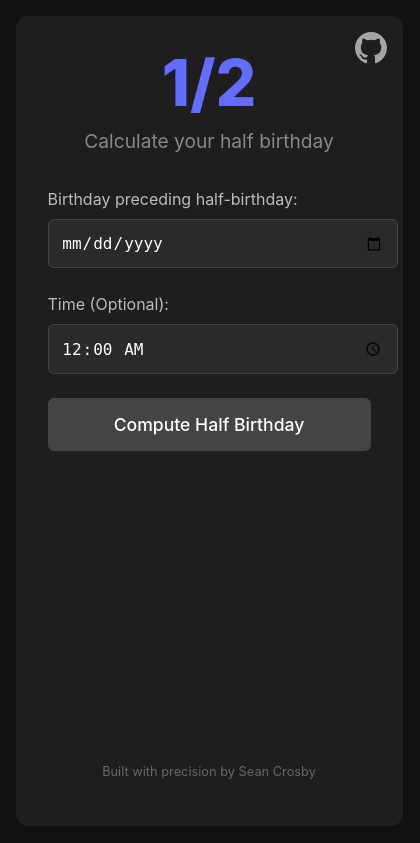
Test: App › displays results when compute button is clicked
Type "1990-01-01" into the date field labelled "Birthday preceding half-birthday:" at (223, 244), box [48,219,398,268]
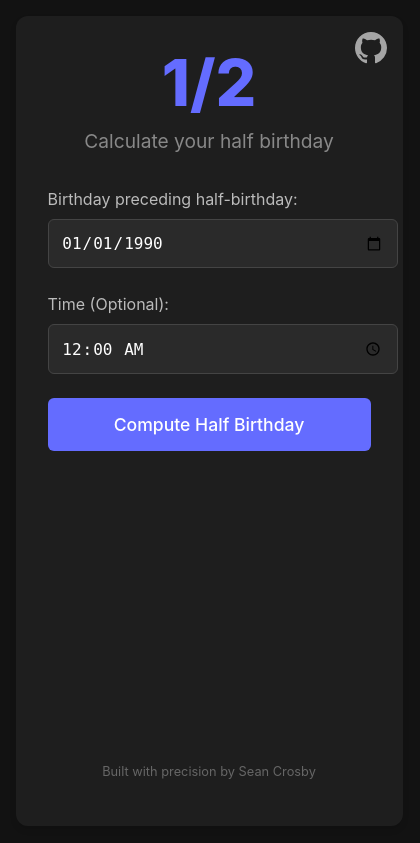
Click the button "Compute Half Birthday" at (209, 425), box [48,398,370,451]
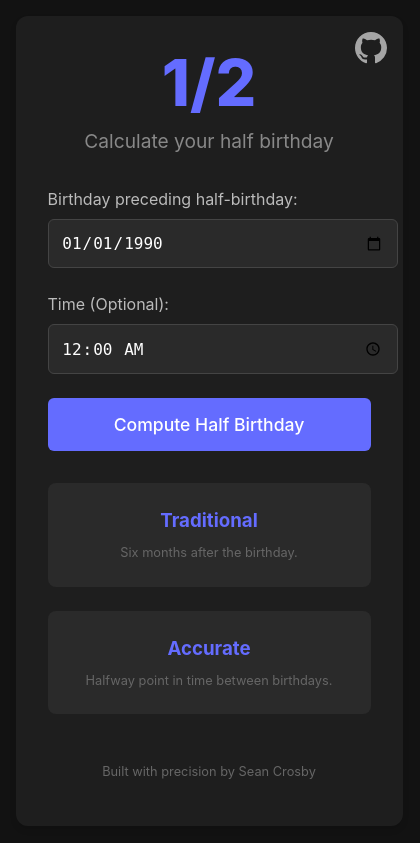
Now the heading "Traditional" is shown, box [160,509,258,532]
Now the heading "Accurate" is shown, box [167,637,251,660]
